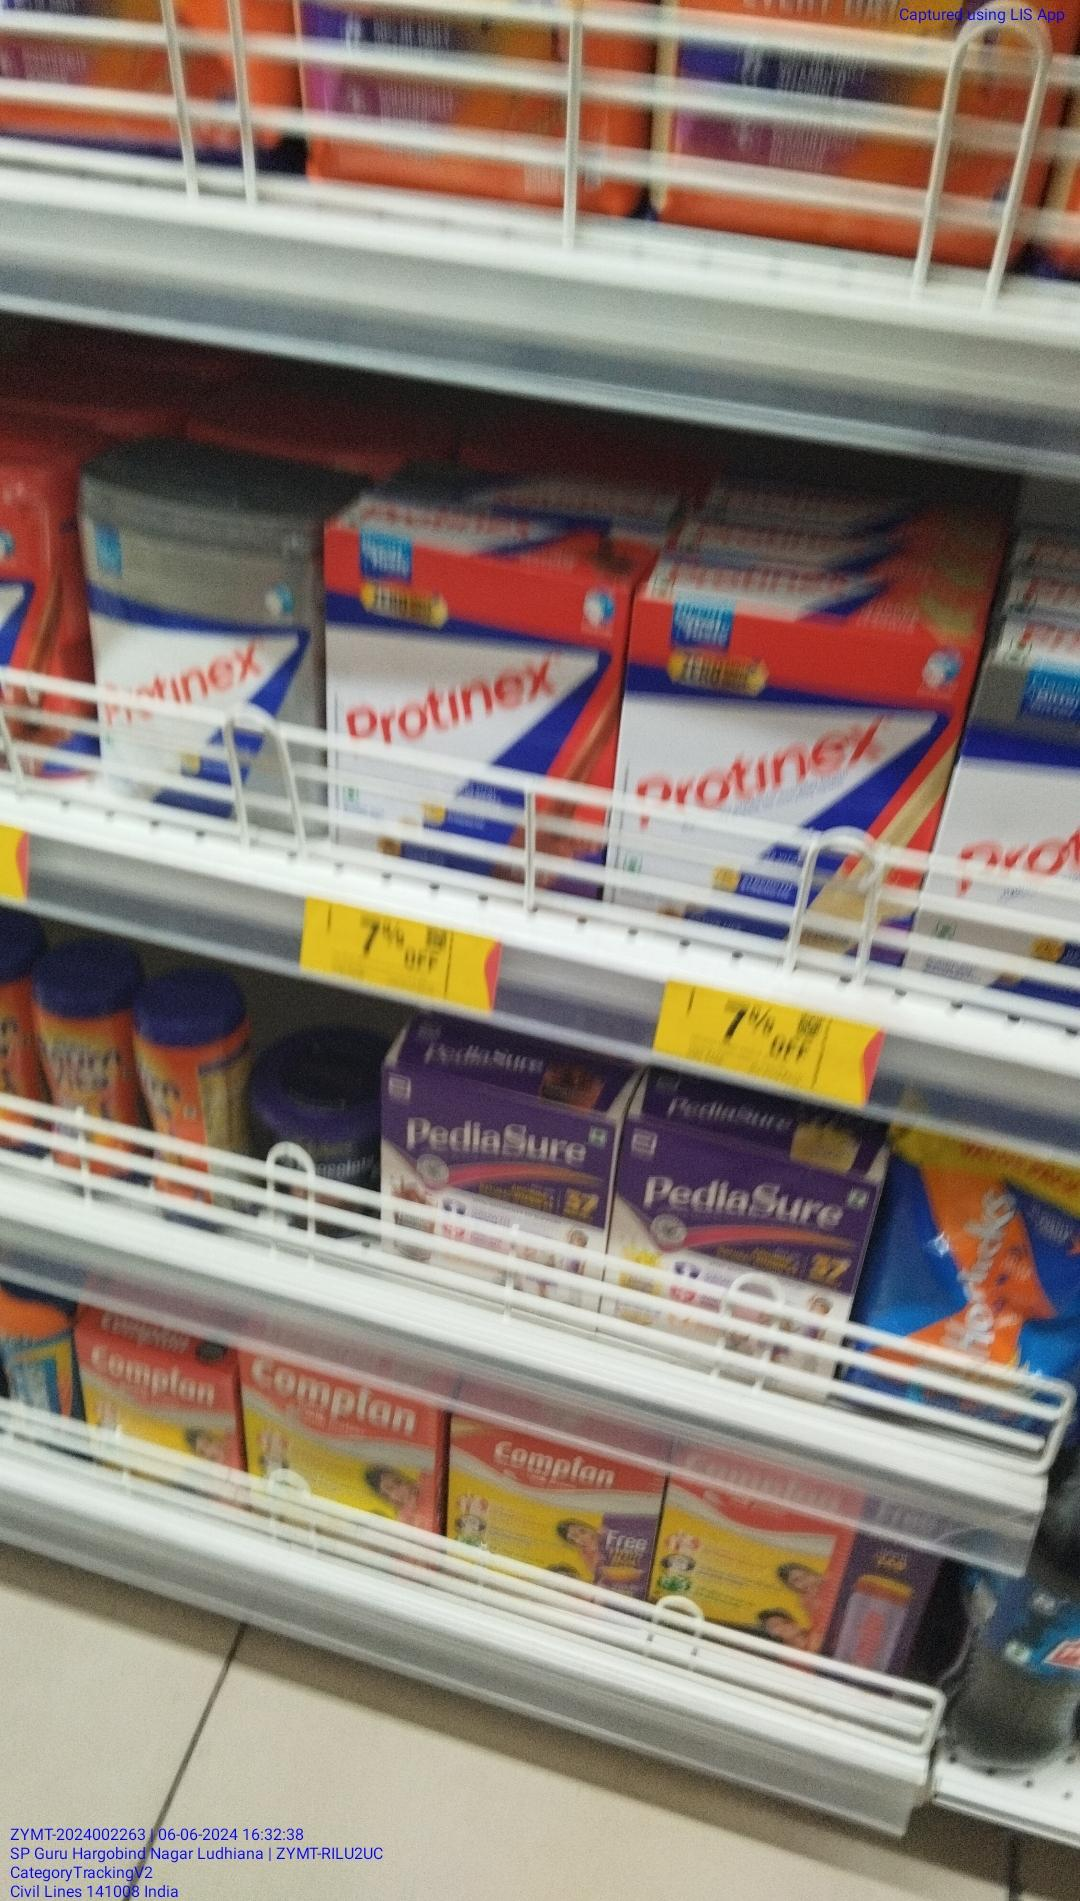BOURN_VITA_200_G_JAR: (37, 984, 129, 1199), (128, 994, 195, 1222)
HORLICK_CLASSIC_MALT_750_G_POUCH: (884, 1133, 1080, 1440)
PROTINEX_ORIGINAL_400_G_JAR: (73, 482, 303, 829)
